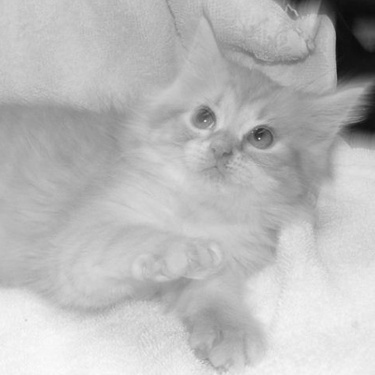cat: (5, 18, 369, 368)
